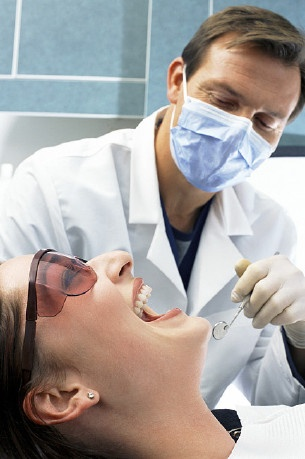Mask: (172, 67, 296, 191)
